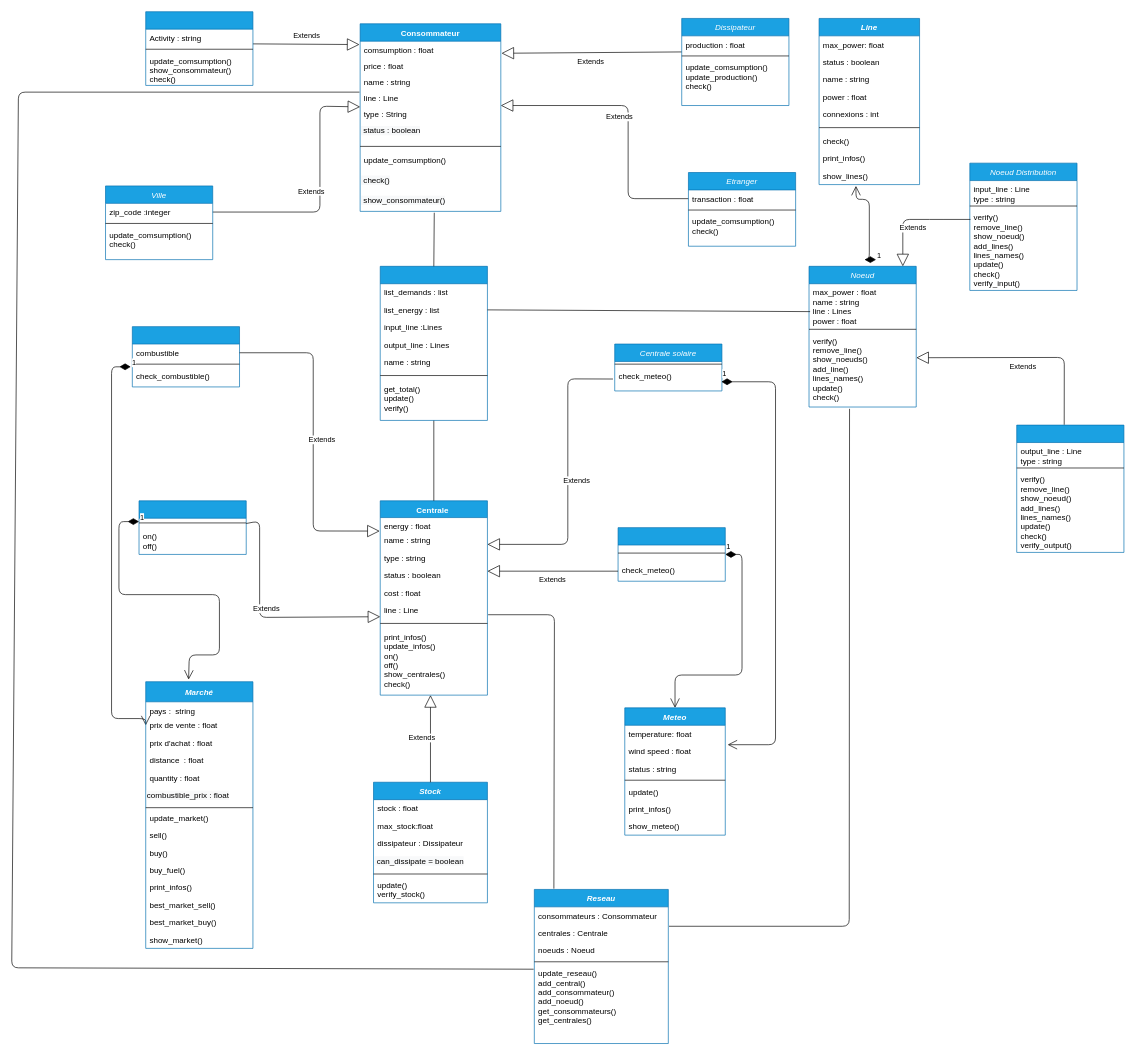
Image size: 1136x1057. Some labels were removed from this diagram. Each missing label, with the box of its shape:
Central à gaz: (132, 326, 240, 387)
Centrale Nucleaire: (138, 500, 246, 554)
Distributeur: (380, 266, 487, 420)
Entreprise: (145, 11, 253, 85)
Noeud Concentration: (1016, 424, 1124, 552)
Parc éolienne: (617, 527, 725, 581)
